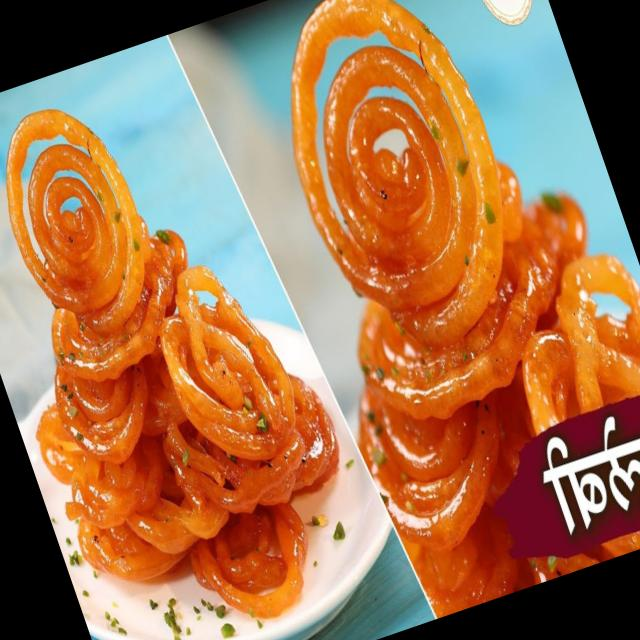jalebi: (225, 0, 640, 623), (0, 66, 365, 640)
